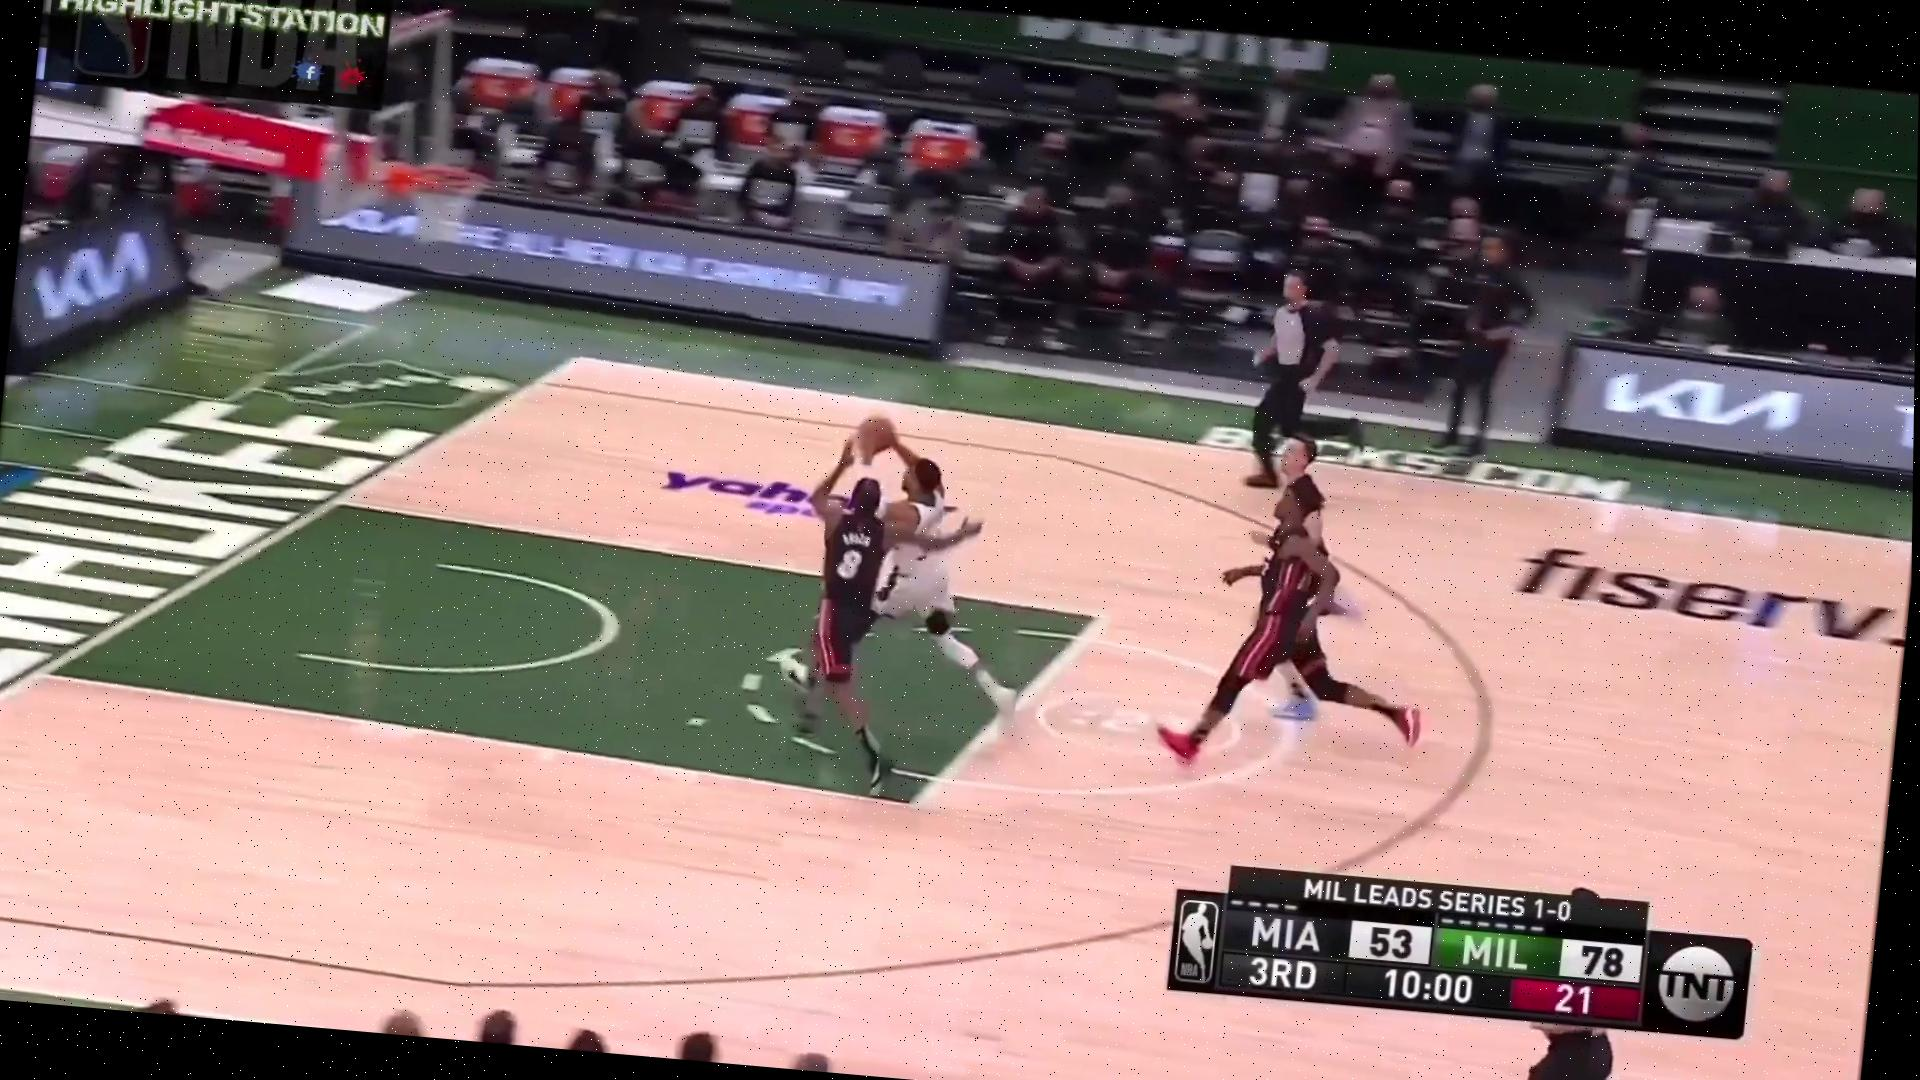no_foul: (746, 411, 1040, 806)
